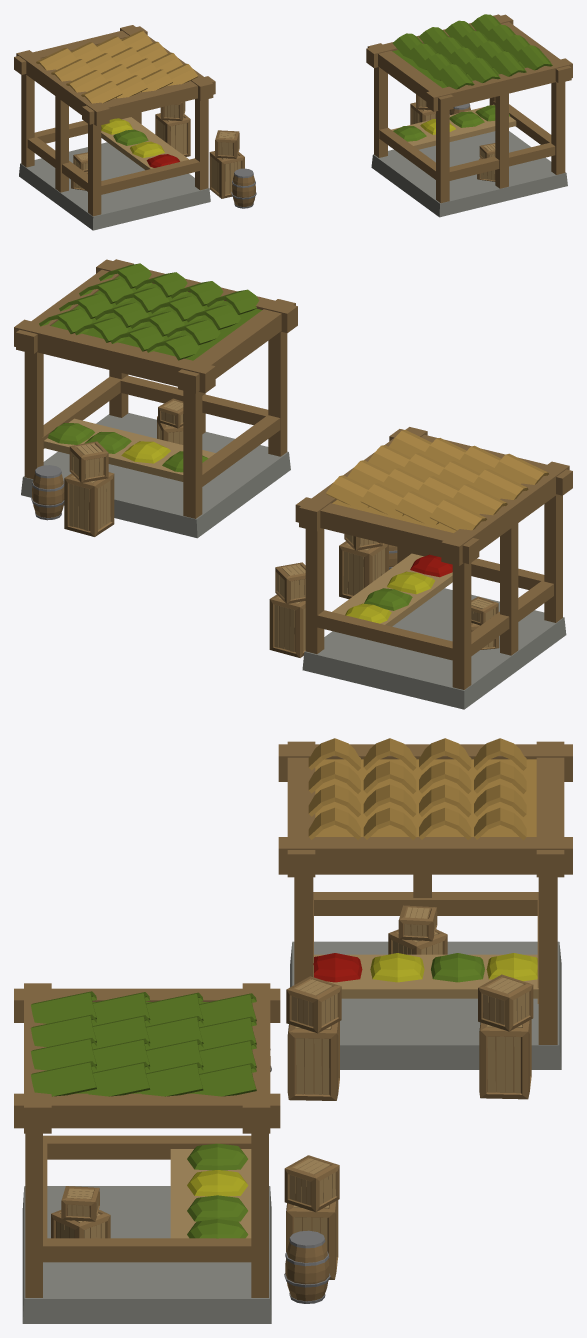
File: m_market2.glb
The picture shows the model from 3 angles, top to bottom: view 1: azimuth 30°, elevation 25°; view 2: azimuth 150°, elevation 25°; view 3: azimuth 270°, elevation 25°; orthographic projection. The views are drawn at different scales.
Parts seen in each view (by area): view 1: Market_SecondAge_Level1; view 2: Market_SecondAge_Level1; view 3: Market_SecondAge_Level1.
Part boxes in pixels (x1,y1,x2,y2): Market_SecondAge_Level1: (14,14,572,230); Market_SecondAge_Level1: (14,259,572,709); Market_SecondAge_Level1: (14,738,572,1323).
Bounding box in the file's own units: 1.92 × 0.5921 × 1.23.
